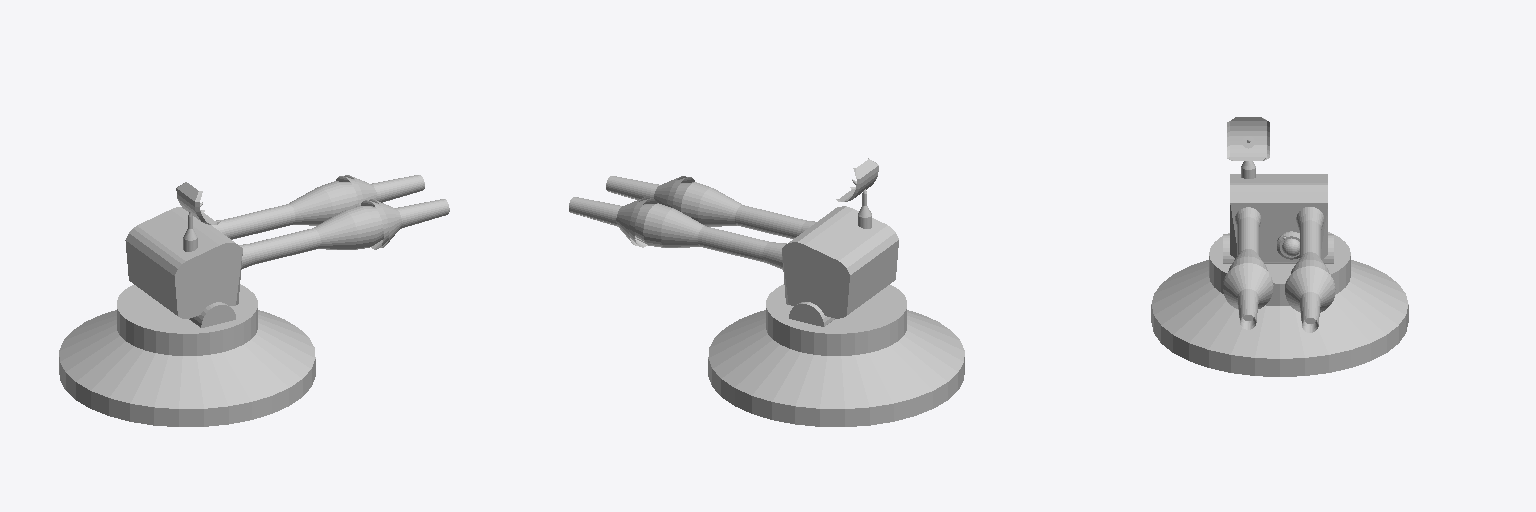
File: Raumschiff Turret slow dualshot advanced.obj
The picture shows the model from 3 angles: view 1: azimuth 30°, elevation 25°; view 2: azimuth 150°, elevation 25°; view 3: azimuth 270°, elevation 25°; orthographic projection.
Visible parts, largest first — view 1: Base_Cylinder.001, Body_Cube, Barrel_2_Cylinder.006, Barrel_1_Cylinder, Antenna_Cylinder.005, Lifter_Cylinder.004; view 2: Base_Cylinder.001, Body_Cube, Barrel_1_Cylinder, Barrel_2_Cylinder.006, Antenna_Cylinder.005, Lifter_Cylinder.004; view 3: Base_Cylinder.001, Body_Cube, Barrel_1_Cylinder, Barrel_2_Cylinder.006, Antenna_Cylinder.005, Cam_Cylinder.002.
Boxes of the visible parts, x1=… form: Base_Cylinder.001: x1=59, y1=284, x2=315, y2=426; Body_Cube: x1=125, y1=207, x2=242, y2=318; Barrel_2_Cylinder.006: x1=239, y1=199, x2=449, y2=269; Barrel_1_Cylinder: x1=212, y1=175, x2=424, y2=239; Antenna_Cylinder.005: x1=176, y1=182, x2=220, y2=251; Lifter_Cylinder.004: x1=189, y1=302, x2=235, y2=327; Base_Cylinder.001: x1=708, y1=284, x2=964, y2=426; Body_Cube: x1=782, y1=206, x2=898, y2=318; Barrel_1_Cylinder: x1=569, y1=197, x2=786, y2=269; Barrel_2_Cylinder.006: x1=606, y1=176, x2=815, y2=238; Antenna_Cylinder.005: x1=836, y1=158, x2=878, y2=228; Lifter_Cylinder.004: x1=789, y1=302, x2=834, y2=326; Base_Cylinder.001: x1=1151, y1=232, x2=1408, y2=376; Body_Cube: x1=1230, y1=174, x2=1327, y2=261; Barrel_1_Cylinder: x1=1285, y1=207, x2=1335, y2=332; Barrel_2_Cylinder.006: x1=1223, y1=207, x2=1273, y2=329; Antenna_Cylinder.005: x1=1227, y1=117, x2=1269, y2=178; Cam_Cylinder.002: x1=1277, y1=231, x2=1299, y2=259.
Bounding box in the file's own units: 11.05 × 5.89 × 6.84.